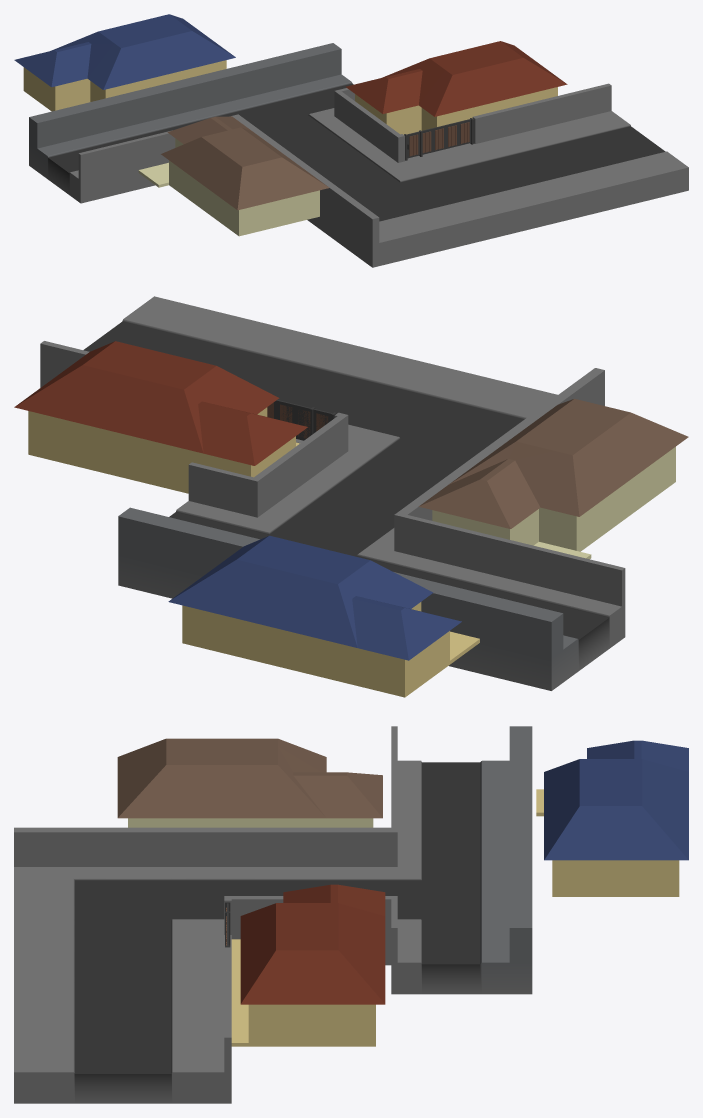
File: rumahdanjalan.fbx
3 renders of one model, top to bottom at view 1: azimuth 30°, elevation 25°; view 2: azimuth 150°, elevation 25°; view 3: azimuth 270°, elevation 25°, orthographic. The views are drawn at different scales.
Visible parts, largest first — view 1: Street; view 2: Street; view 3: Street.
Part boxes in pixels (left/top/right/bottom): Street: left=14, top=14, right=688, bottom=267; Street: left=14, top=296, right=688, bottom=697; Street: left=14, top=726, right=688, bottom=1103.
Bounding box in the file's own units: 3473 × 560 × 3180.
